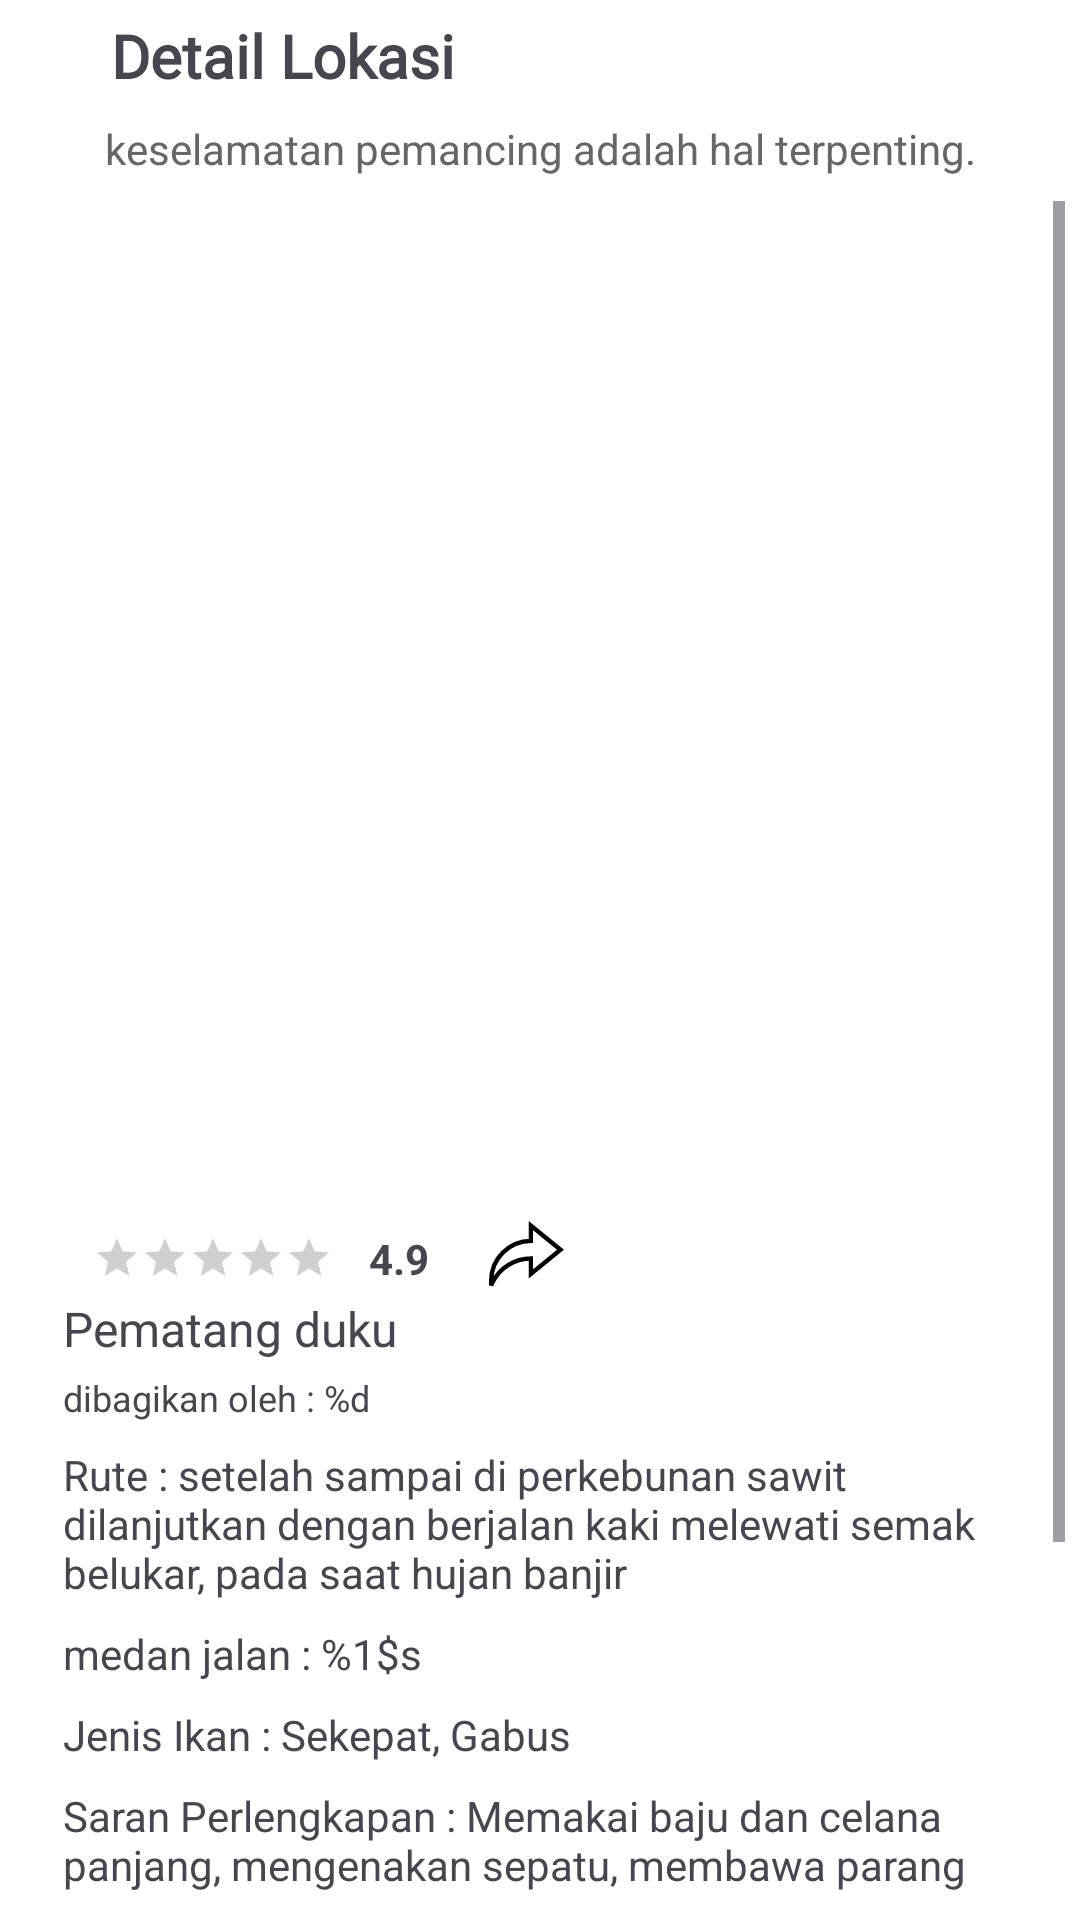

Locate icon controls on the screen. Image size 1080x1920, boxes as (x1, y1, x2, y2).
bagiakan lokasi: (489, 1221, 564, 1287)
